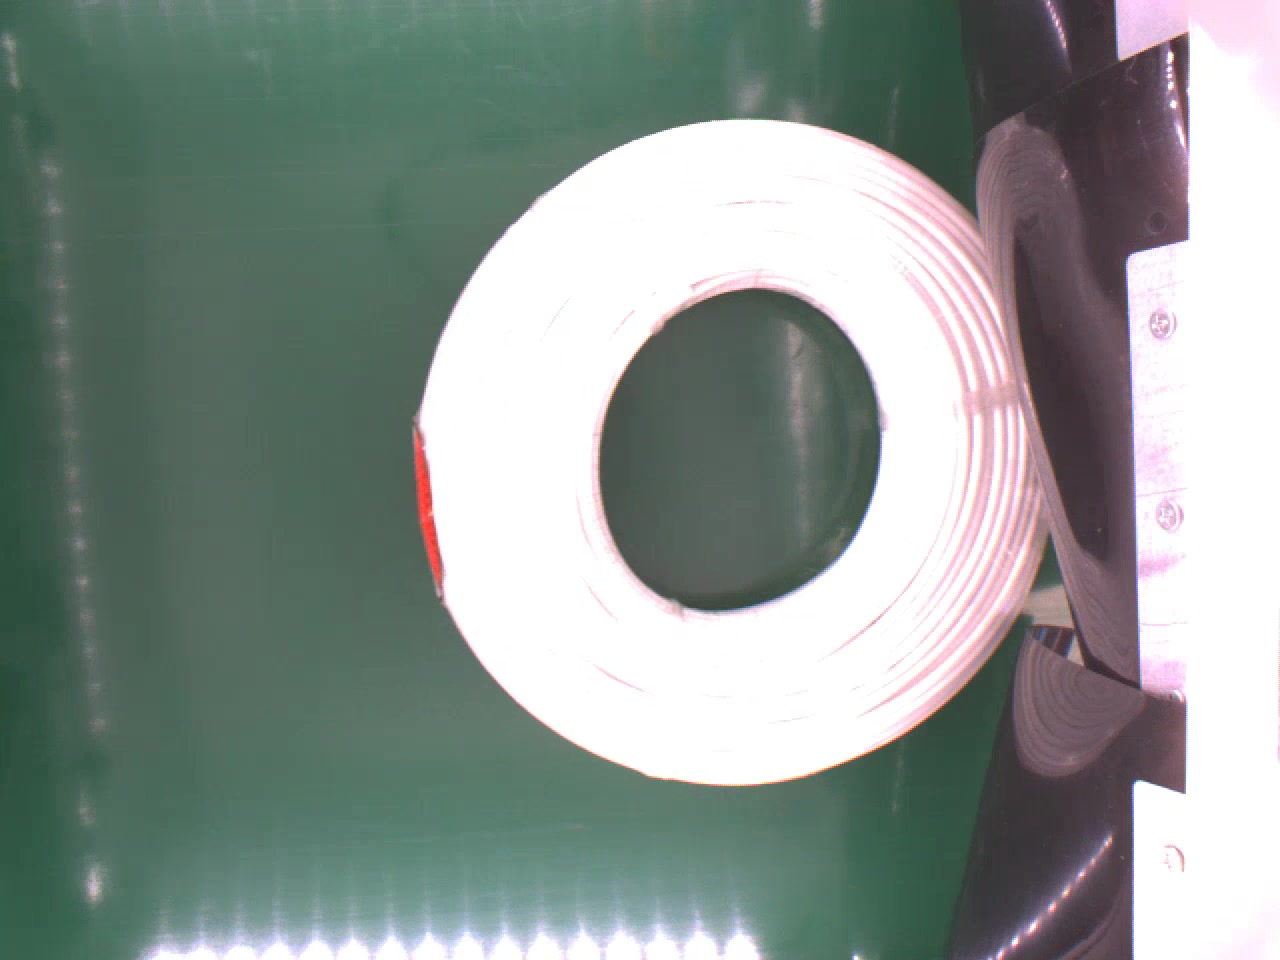white: (409, 116, 1049, 784)
